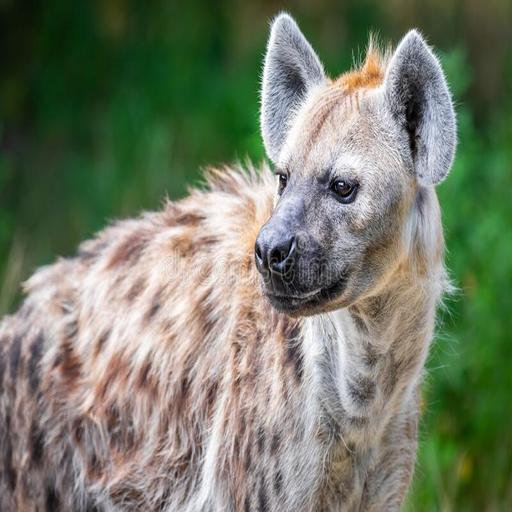Hyena: (0, 7, 459, 511)
